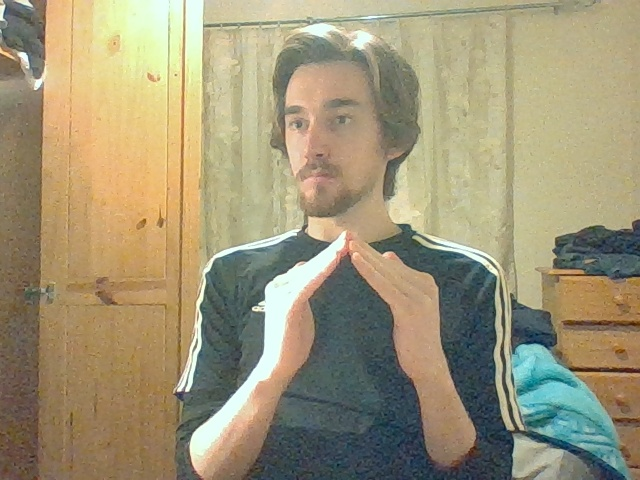home: (264, 230, 439, 327)
